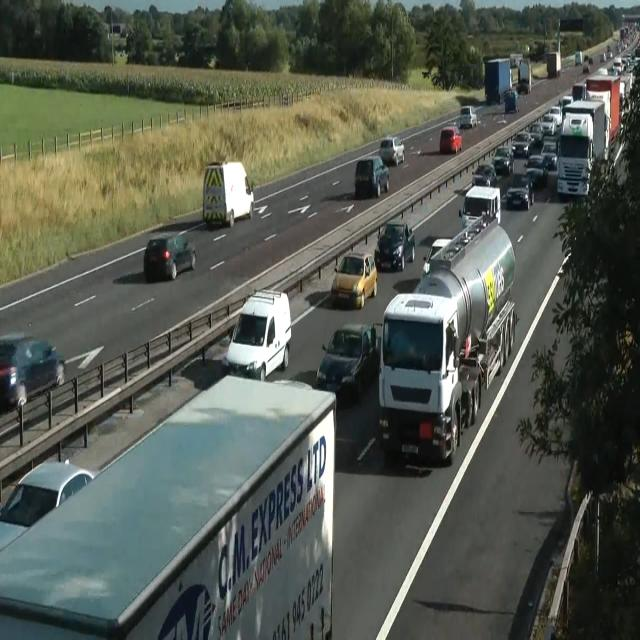bus: (0, 458, 100, 553), (316, 322, 380, 400), (0, 331, 64, 409), (330, 252, 378, 310), (143, 230, 196, 282), (374, 220, 415, 271), (421, 238, 452, 276), (524, 154, 548, 188), (379, 136, 405, 165), (439, 126, 462, 154), (491, 146, 513, 174), (511, 131, 534, 157), (472, 162, 496, 186), (540, 140, 558, 170), (459, 105, 477, 128), (540, 113, 556, 135), (504, 90, 519, 113), (527, 123, 544, 143), (548, 106, 562, 127)
car: (377, 213, 517, 464)
jeep: (378, 291, 463, 464), (224, 288, 292, 380), (202, 159, 254, 228), (458, 184, 501, 228), (354, 154, 390, 198), (506, 172, 534, 210)
minibus: (0, 373, 337, 639), (556, 73, 621, 202), (484, 58, 512, 104), (517, 58, 531, 94), (546, 52, 560, 78), (510, 52, 522, 68), (574, 51, 582, 65)
